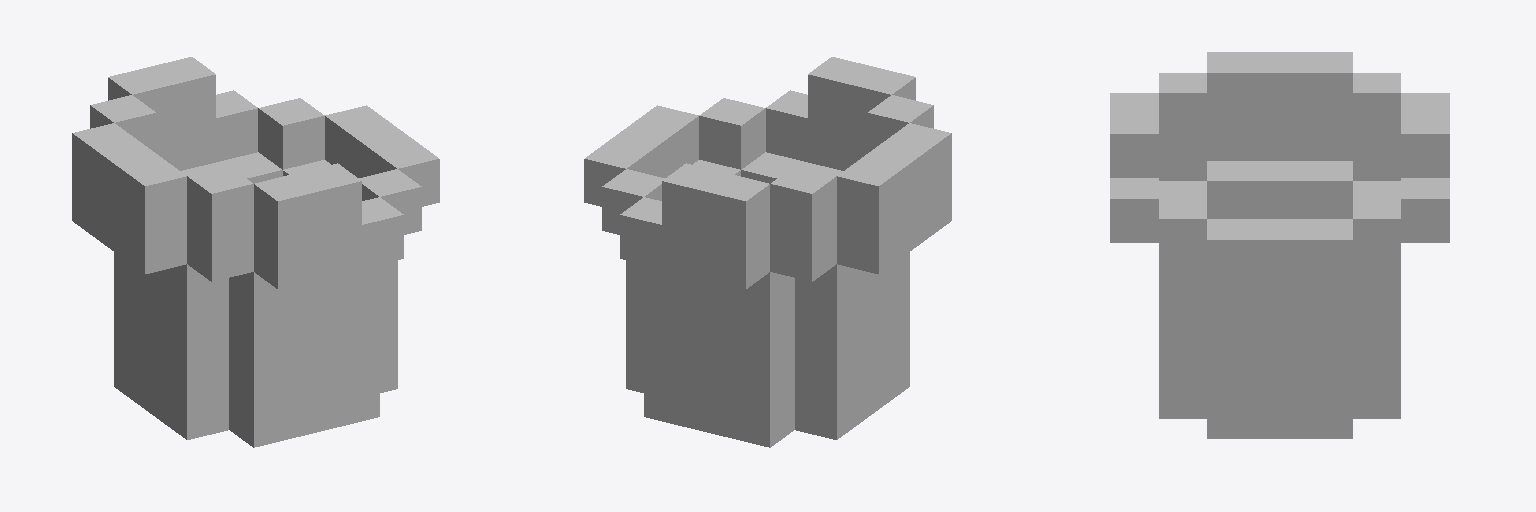
File: Balde Vazio.obj
3 views of the same model, side by side, from view 1: azimuth 30°, elevation 25°; view 2: azimuth 150°, elevation 25°; view 3: azimuth 270°, elevation 25° (orthographic).
Parts seen in each view (by area): view 1: object 1; view 2: object 1; view 3: object 1.
Boxes of the visible parts, x1=… form: object 1: x1=72, y1=57, x2=439, y2=447; object 1: x1=584, y1=57, x2=951, y2=447; object 1: x1=1110, y1=52, x2=1449, y2=438.
Size of the model in its own units: 0.7 by 0.6 by 0.7.